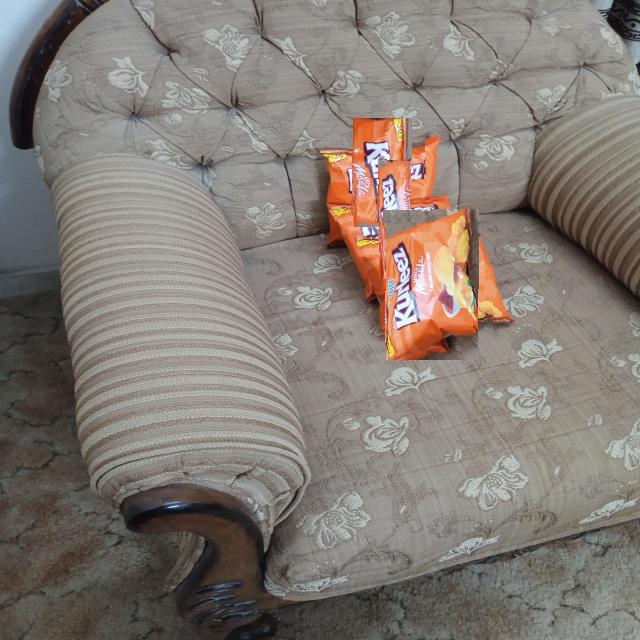Plastic: (372, 223, 494, 346), (340, 131, 425, 215), (357, 178, 435, 257)
